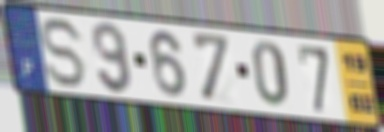0: (249, 38, 290, 109)
6: (148, 29, 189, 99)
7: (189, 29, 234, 104), (296, 42, 331, 114)
9: (90, 19, 135, 97)
S: (39, 15, 90, 90)
